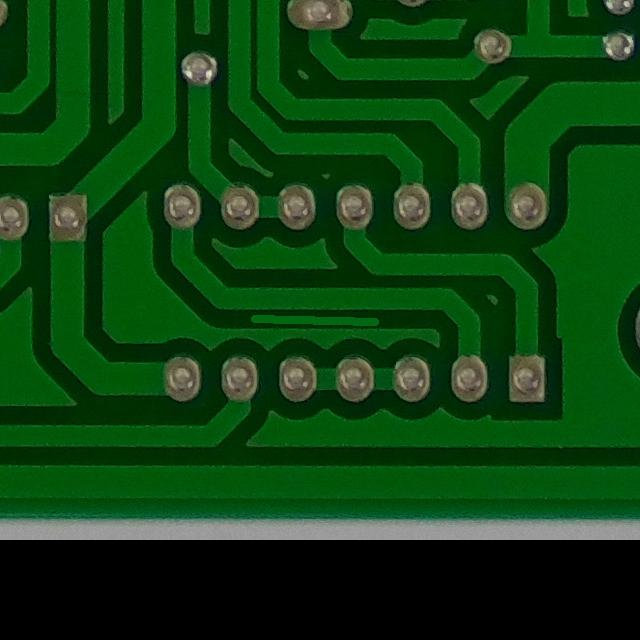spurious_copper: (238, 297, 402, 343)
